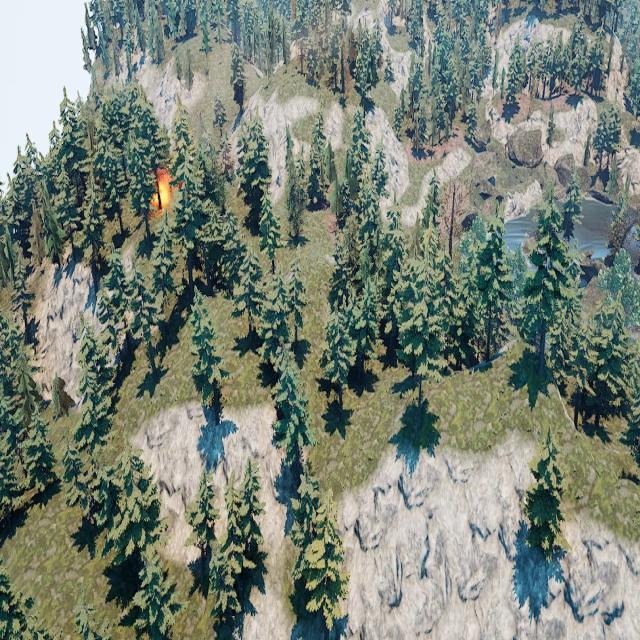fire: (154, 173, 173, 211)
